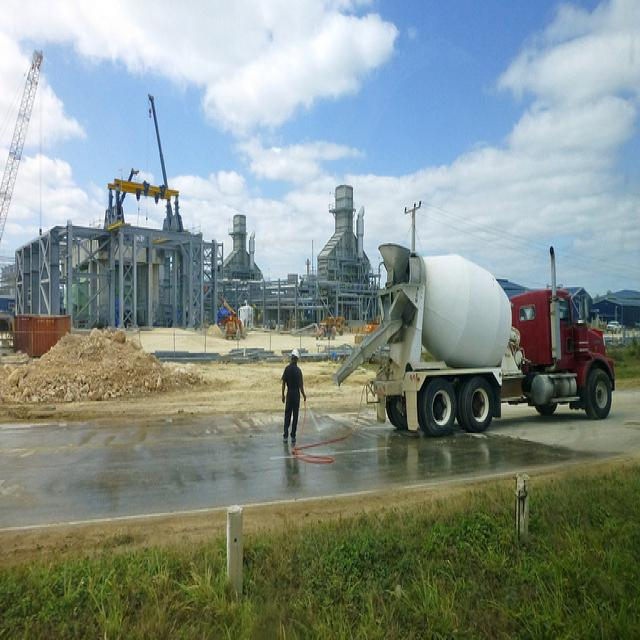Vehicle: (333, 247, 619, 440), (606, 321, 622, 334)
